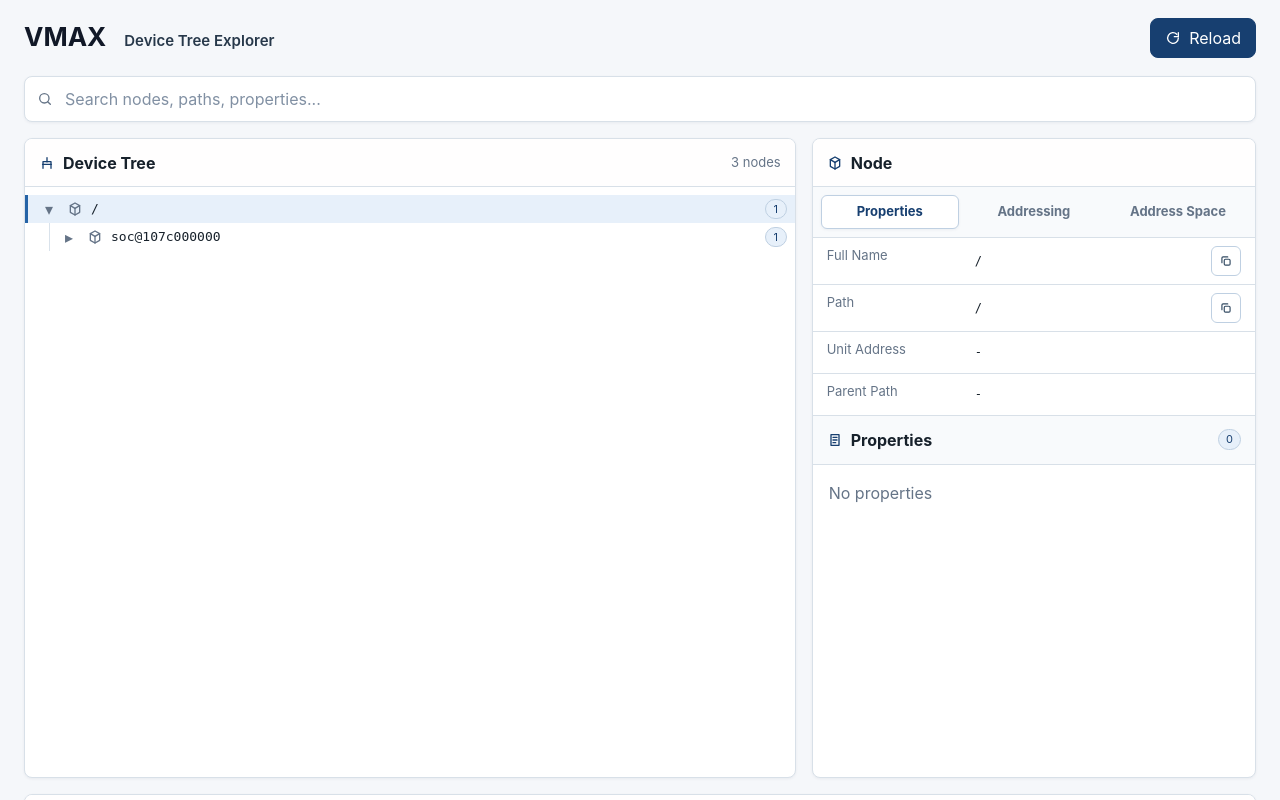
Test: App › shows addressing data for the selected node
Check: the tab "Properties" is shown, box [821,195,959,228]
Click the button named "Toggle soc@107c000000" at (69, 237), box [57,225,81,249]
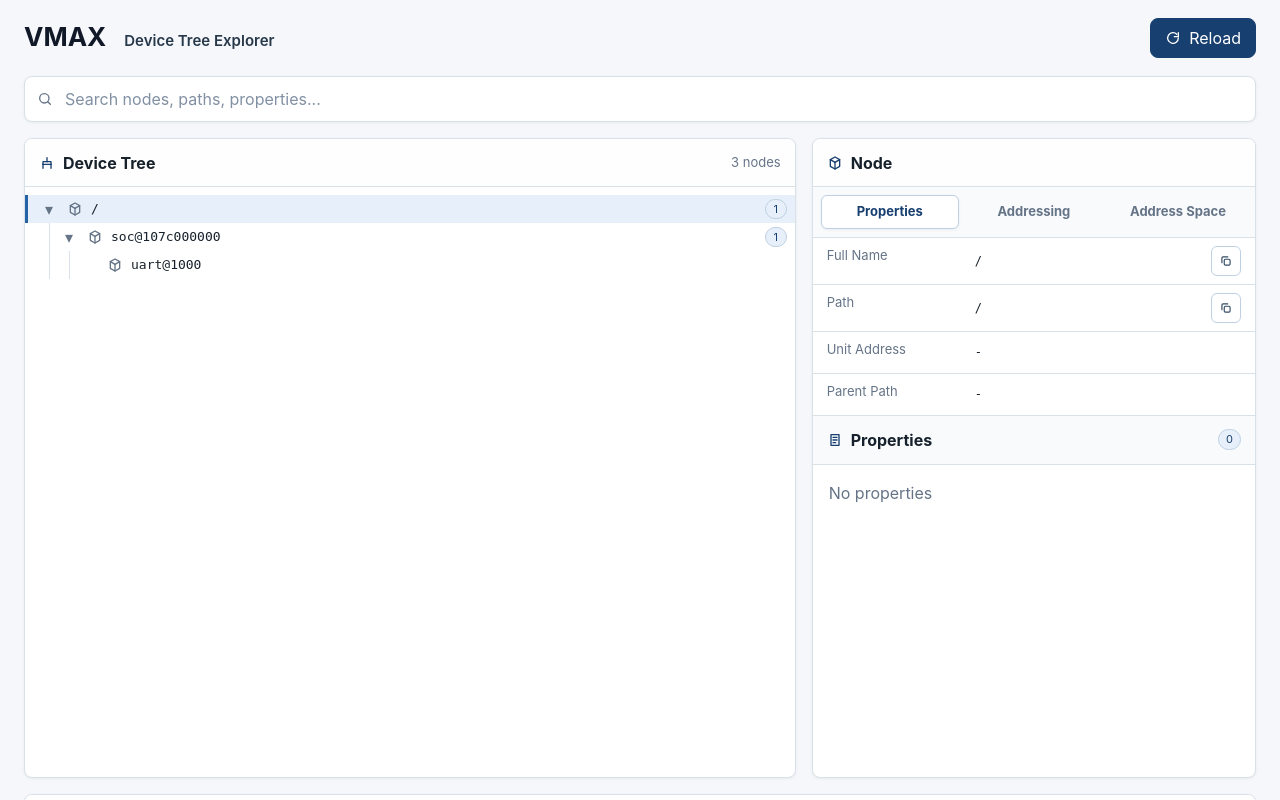
Click the button "uart@1000" at (166, 265), box [105,251,787,279]
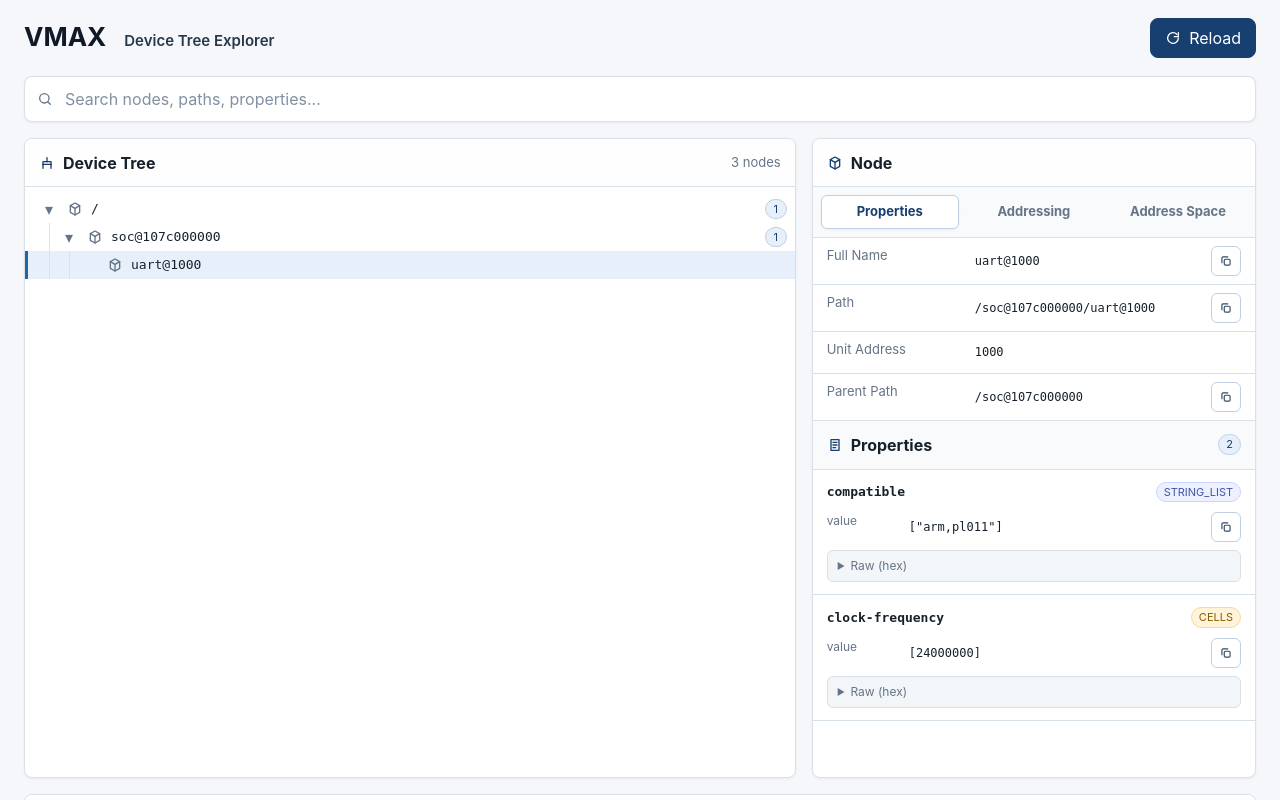
Click the tab "Addressing" at (1034, 212), box [965,195,1103,228]
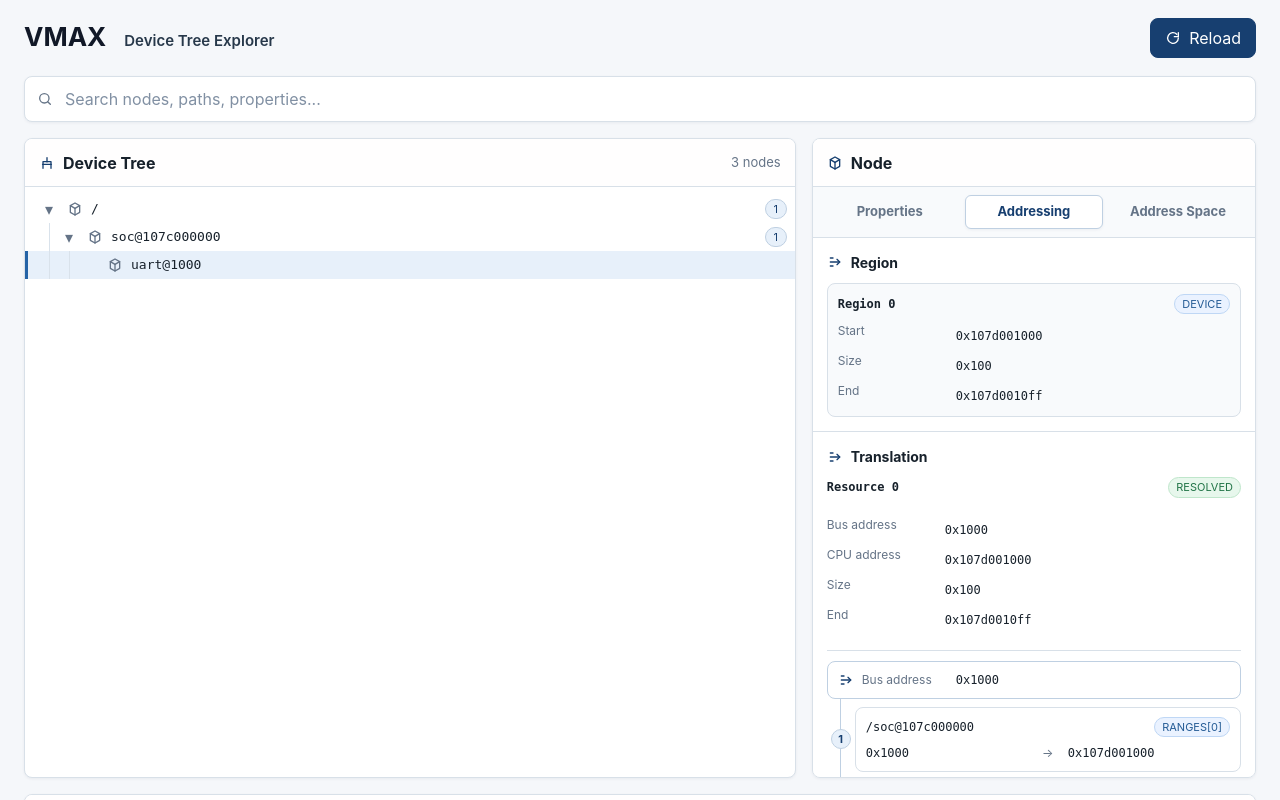
Check: the heading "Region" is shown, box [851,252,898,272]
Check: the text "device" is shown, box [1174,294,1230,314]
Check: the text "0x107d001000" next to "Start" is shown, box [956,329,1042,343]
